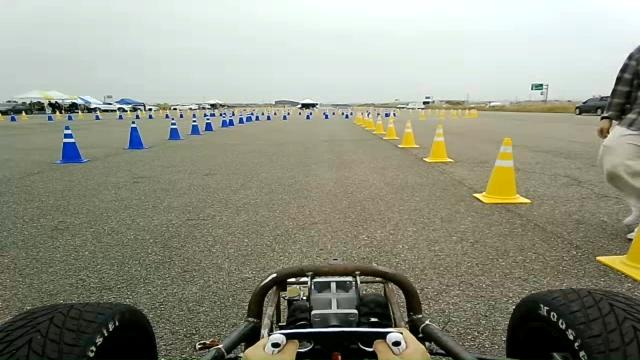blue cone: (53, 124, 89, 164), (122, 120, 149, 150), (164, 118, 184, 140), (188, 112, 198, 135), (131, 106, 144, 121), (218, 112, 228, 127), (204, 113, 212, 131), (227, 110, 235, 126), (245, 111, 253, 125), (94, 107, 102, 120), (66, 108, 74, 120), (238, 110, 244, 124), (117, 108, 124, 120), (147, 109, 155, 119)
yellow cone: (472, 137, 532, 204), (595, 224, 640, 281), (422, 124, 454, 162), (397, 119, 419, 148), (382, 118, 399, 140), (372, 114, 386, 134), (363, 112, 375, 130), (353, 112, 363, 125), (76, 109, 84, 120), (55, 109, 62, 120)
